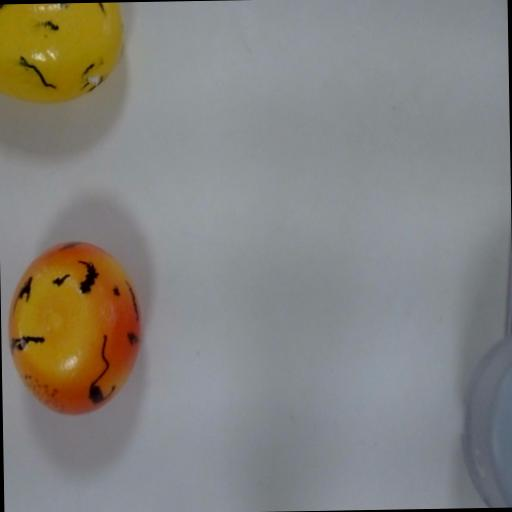Defective: (5, 245, 148, 424), (0, 1, 149, 106)
